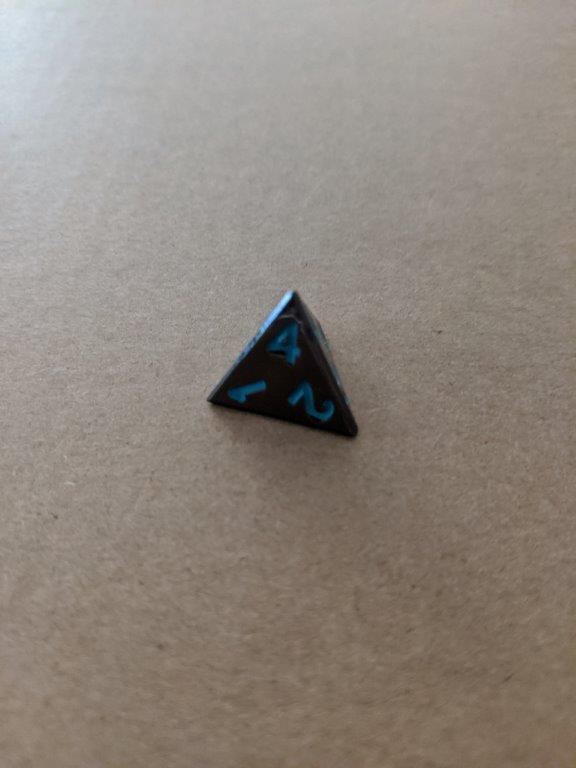d4-4: (198, 285, 362, 445)
